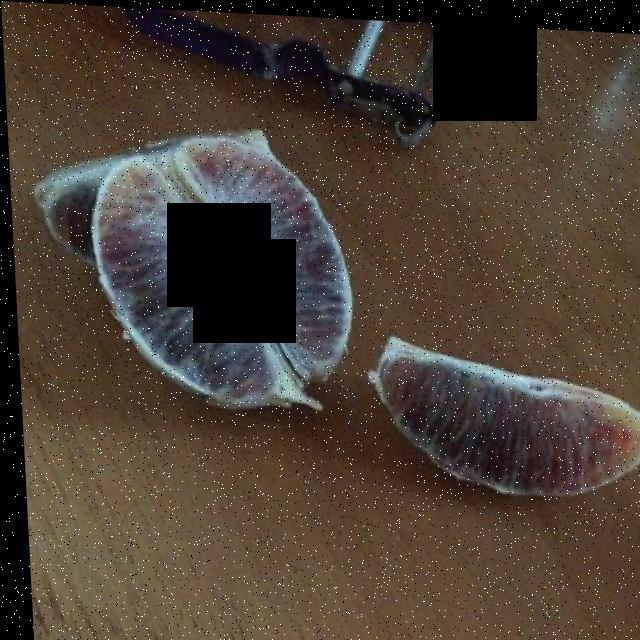orange: (23, 122, 639, 485)
